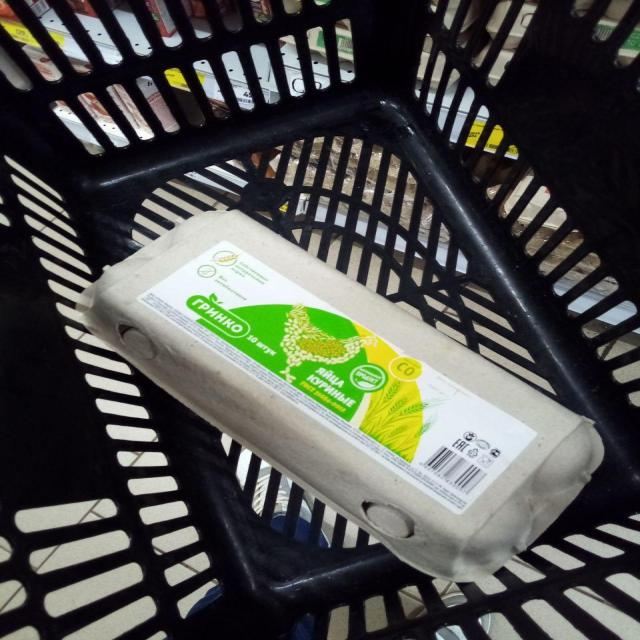Eggs: (80, 211, 603, 581)
